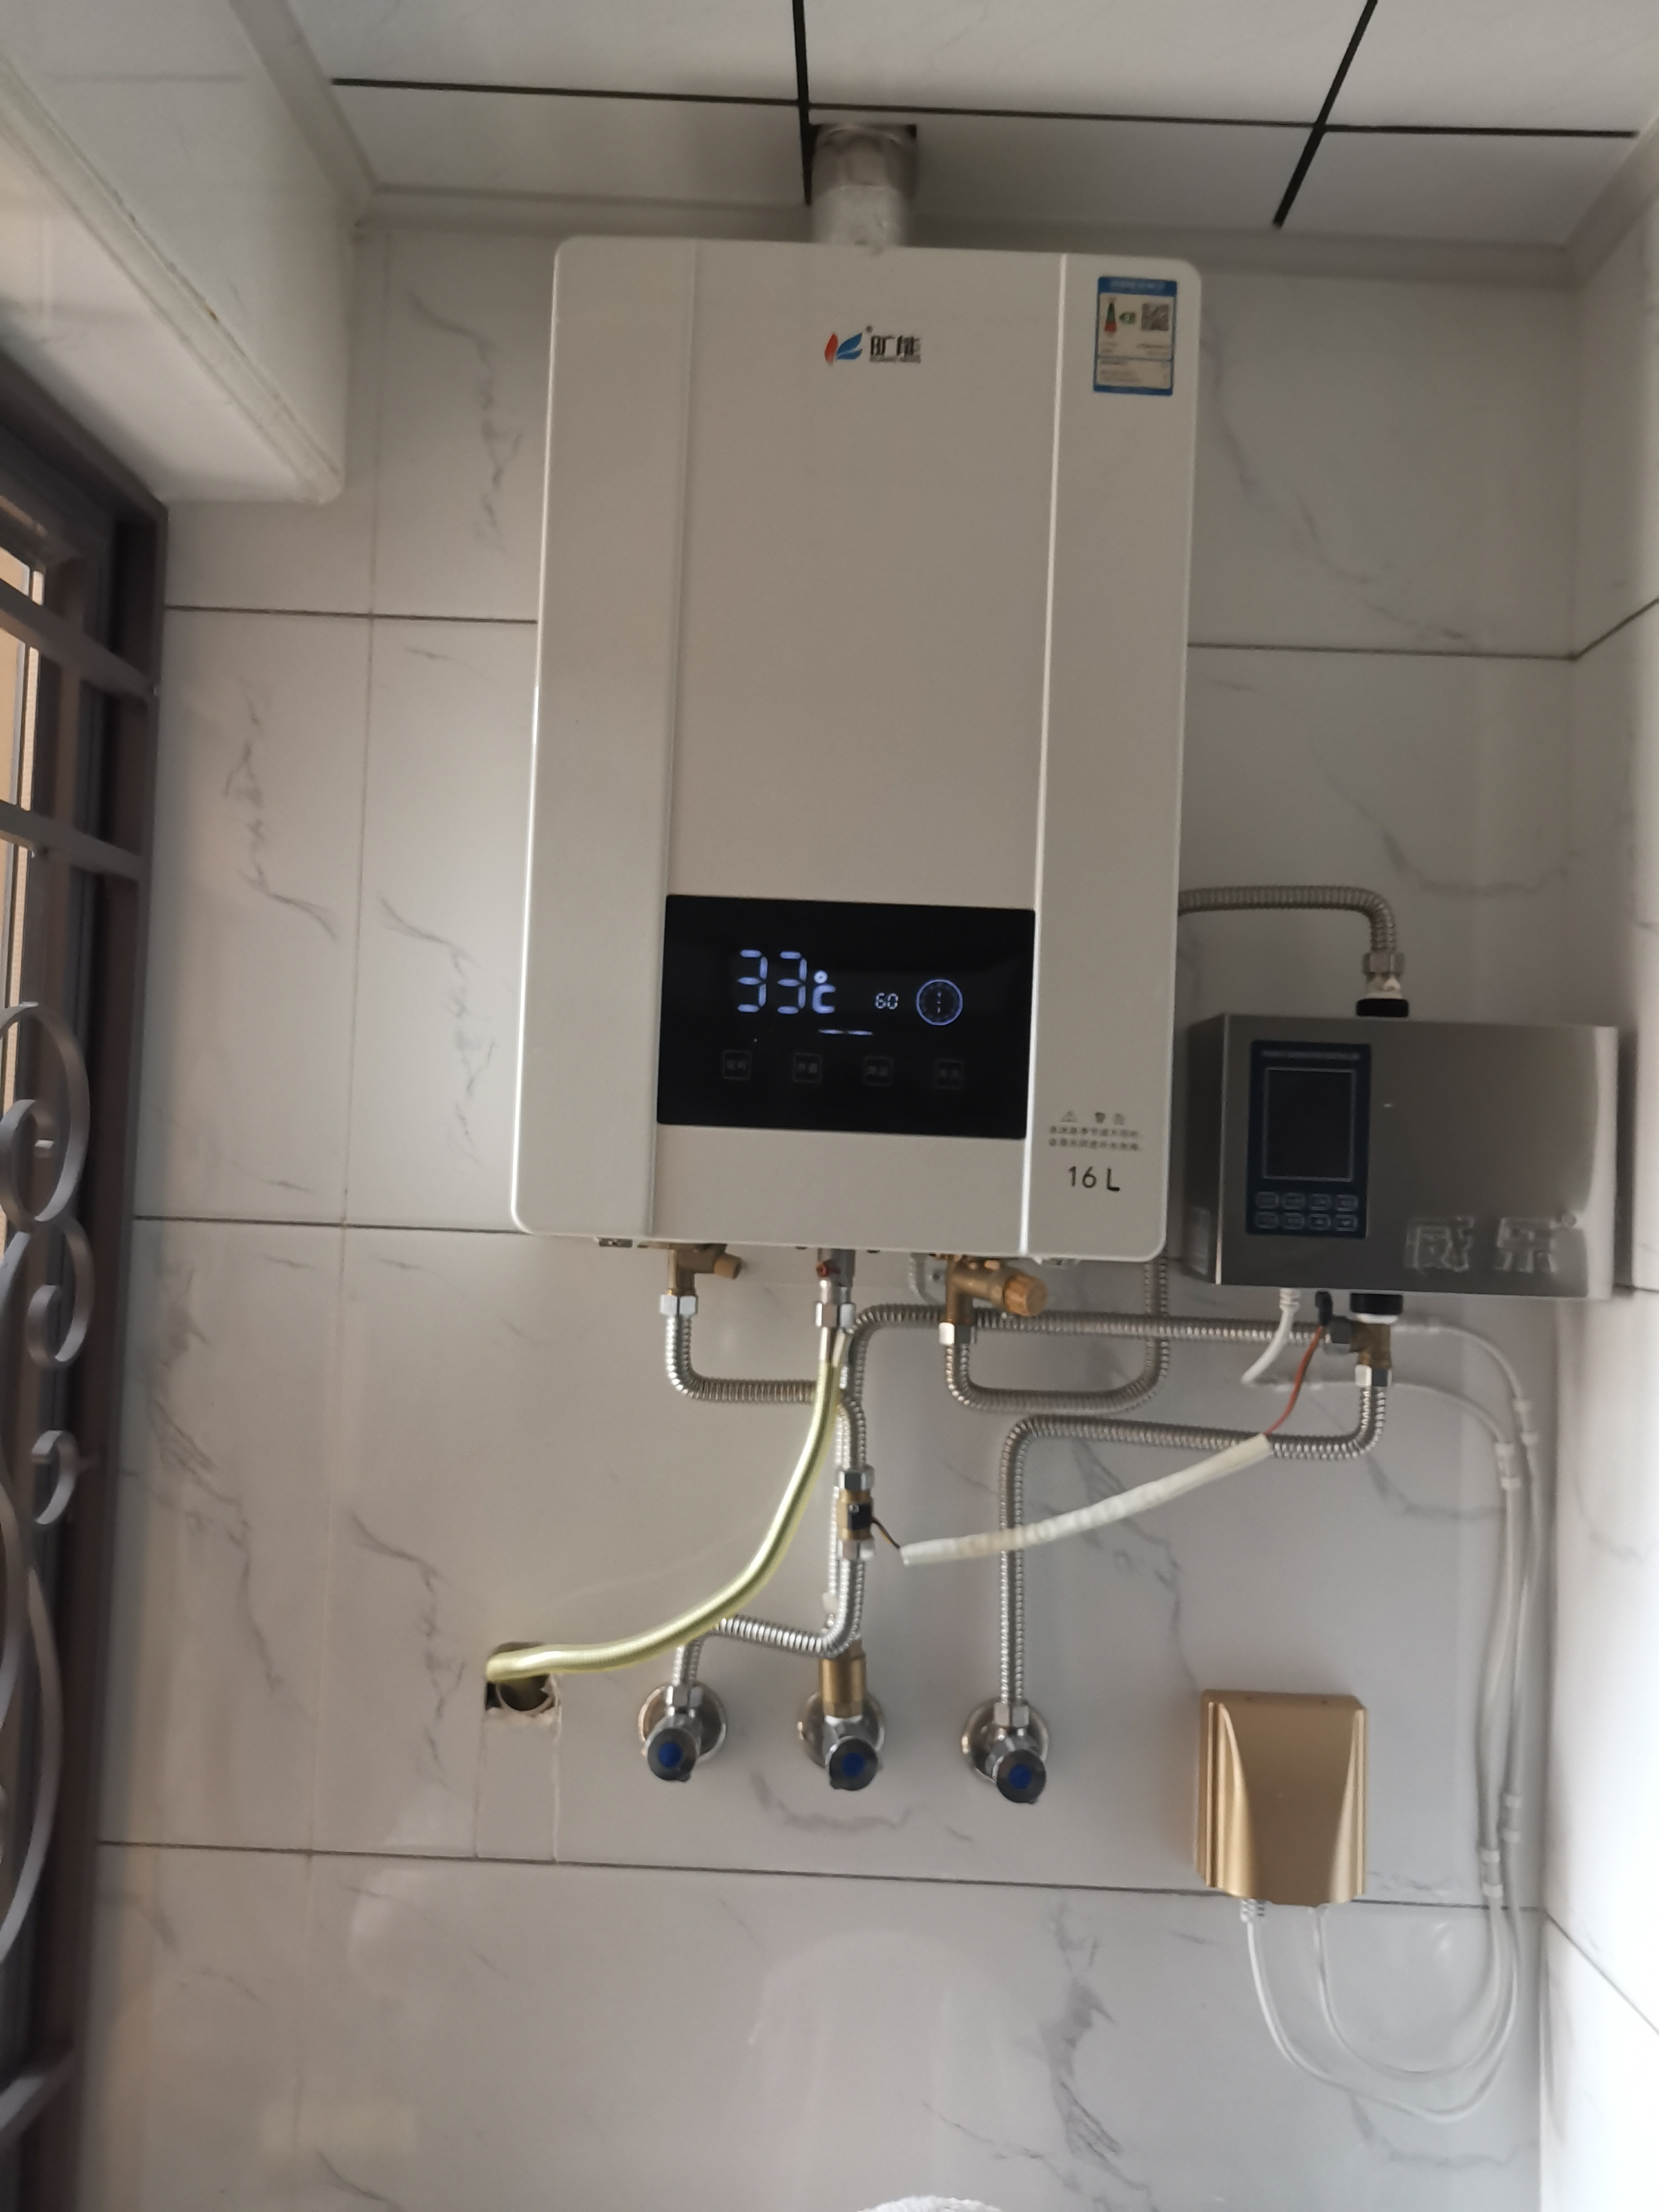loudou: (814, 314, 962, 380)
